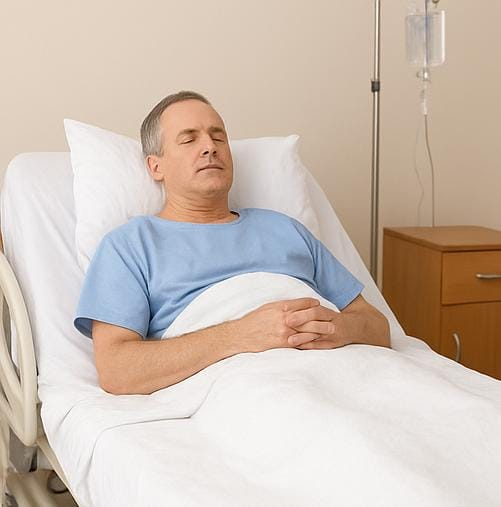sleeping: (5, 85, 452, 507)
